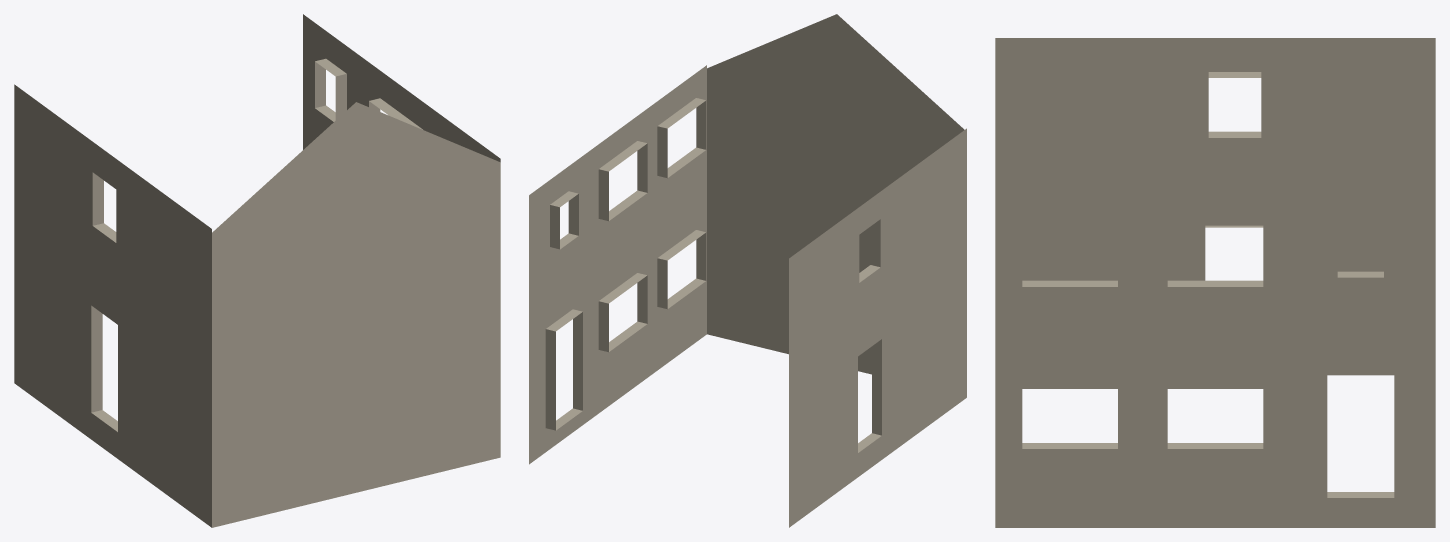
Rendered from SM_Bld_149_Render.glb.
3 renders of one model, left to right at view 1: azimuth 30°, elevation 25°; view 2: azimuth 150°, elevation 25°; view 3: azimuth 270°, elevation 25°, orthographic. The views are drawn at different scales.
Parts seen in each view (by area): view 1: SM_Bld_149_Render; view 2: SM_Bld_149_Render; view 3: SM_Bld_149_Render.
Boxes of the visible parts, bbox=[...] form: SM_Bld_149_Render: bbox=[14, 14, 500, 527]; SM_Bld_149_Render: bbox=[529, 14, 966, 527]; SM_Bld_149_Render: bbox=[995, 38, 1435, 527].
Bounding box in the file's own units: 5.62 × 7.28 × 6.67.
